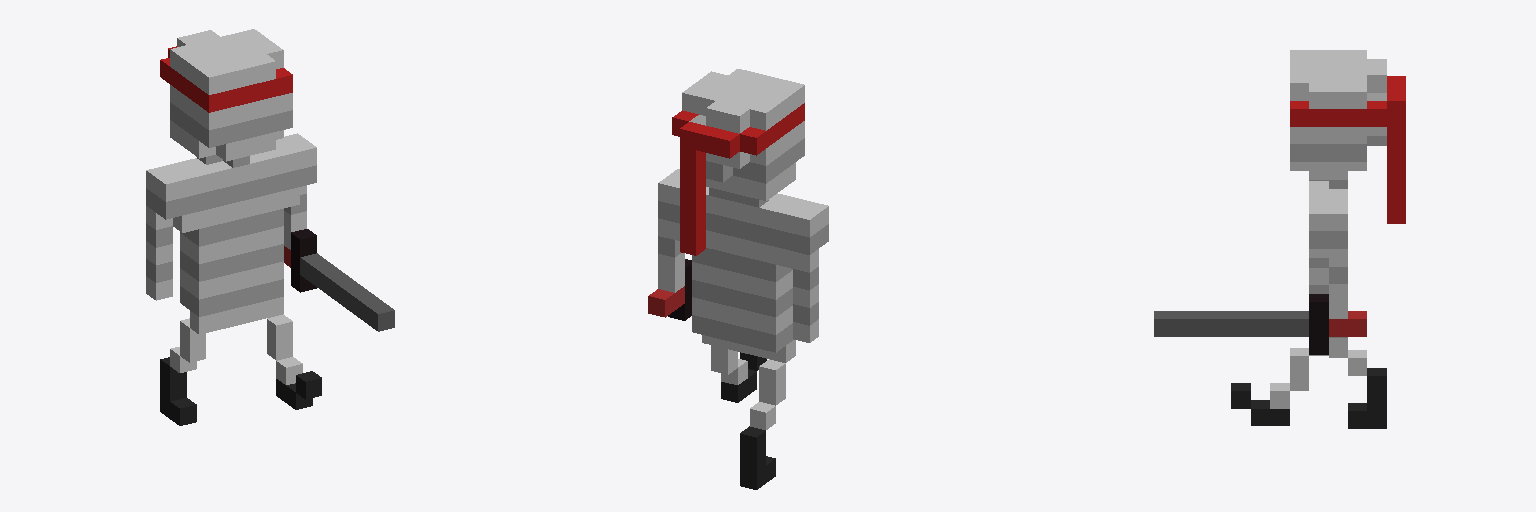
The picture shows the model from 3 angles: view 1: azimuth 30°, elevation 25°; view 2: azimuth 150°, elevation 25°; view 3: azimuth 270°, elevation 25°; orthographic projection.
Parts seen in each view (by area): view 1: SwingingWhiteCharacter-0; view 2: SwingingWhiteCharacter-0; view 3: SwingingWhiteCharacter-0.
Part boxes in pixels (x1,y1,x2,y2): SwingingWhiteCharacter-0: (146,29,394,425); SwingingWhiteCharacter-0: (648,69,828,489); SwingingWhiteCharacter-0: (1154,50,1405,428).
Size of the model in its own units: 9 by 21 by 13.
Materials: 1 (1 with a texture image).